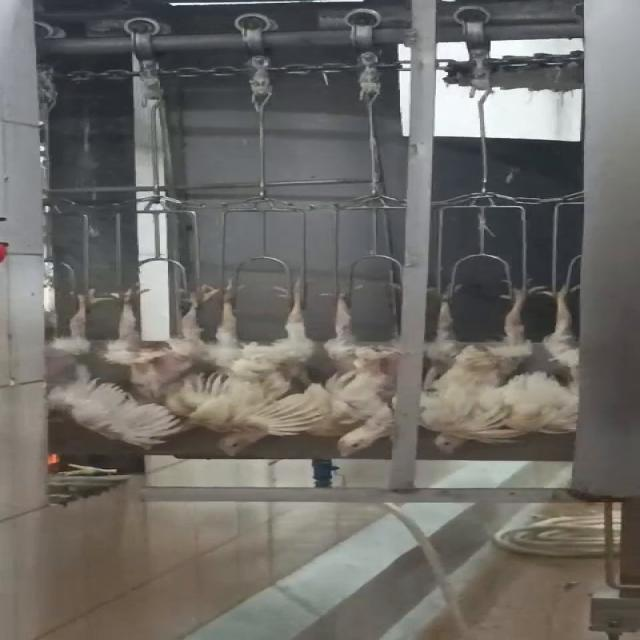chicken: (421, 274, 544, 456), (105, 280, 229, 450), (205, 282, 322, 461), (27, 274, 133, 431), (322, 281, 411, 458), (526, 274, 590, 439)
